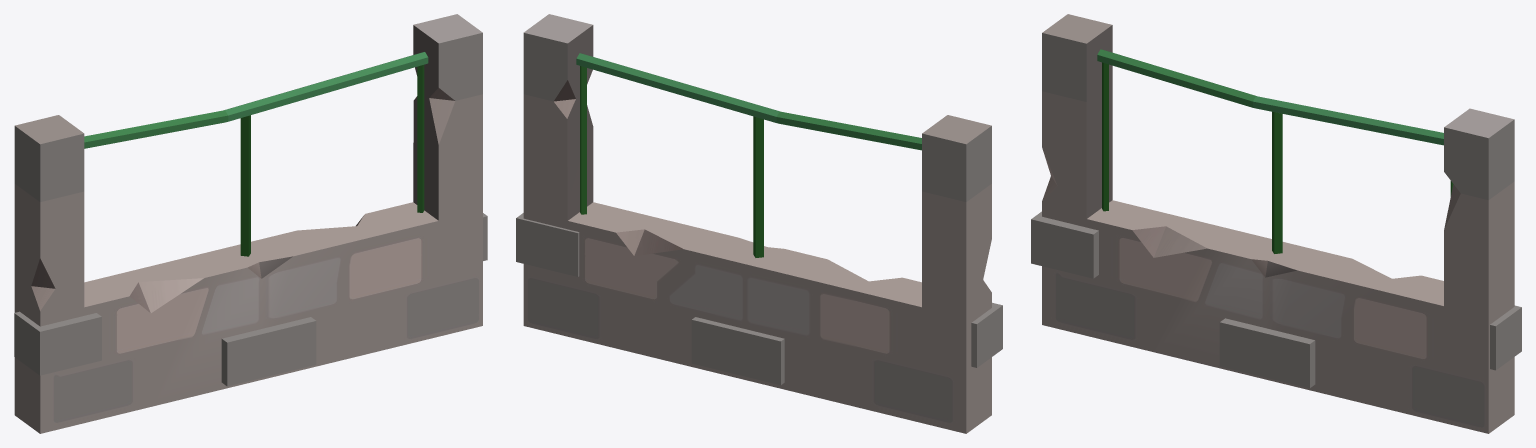
The model's file is SM_SmallWall_02.fbx.
3 renders of one model, left to right at view 1: azimuth 30°, elevation 25°; view 2: azimuth 150°, elevation 25°; view 3: azimuth 330°, elevation 25°, orthographic.
Parts seen in each view (by area): view 1: SM_SmallWall_02; view 2: SM_SmallWall_02; view 3: SM_SmallWall_02.
Part boxes in pixels (x1,y1,x2,y2): SM_SmallWall_02: (14, 14, 487, 433); SM_SmallWall_02: (516, 14, 1002, 433); SM_SmallWall_02: (1031, 14, 1521, 433).
Size of the model in its own units: 2.05 by 1.27 by 0.2719.
